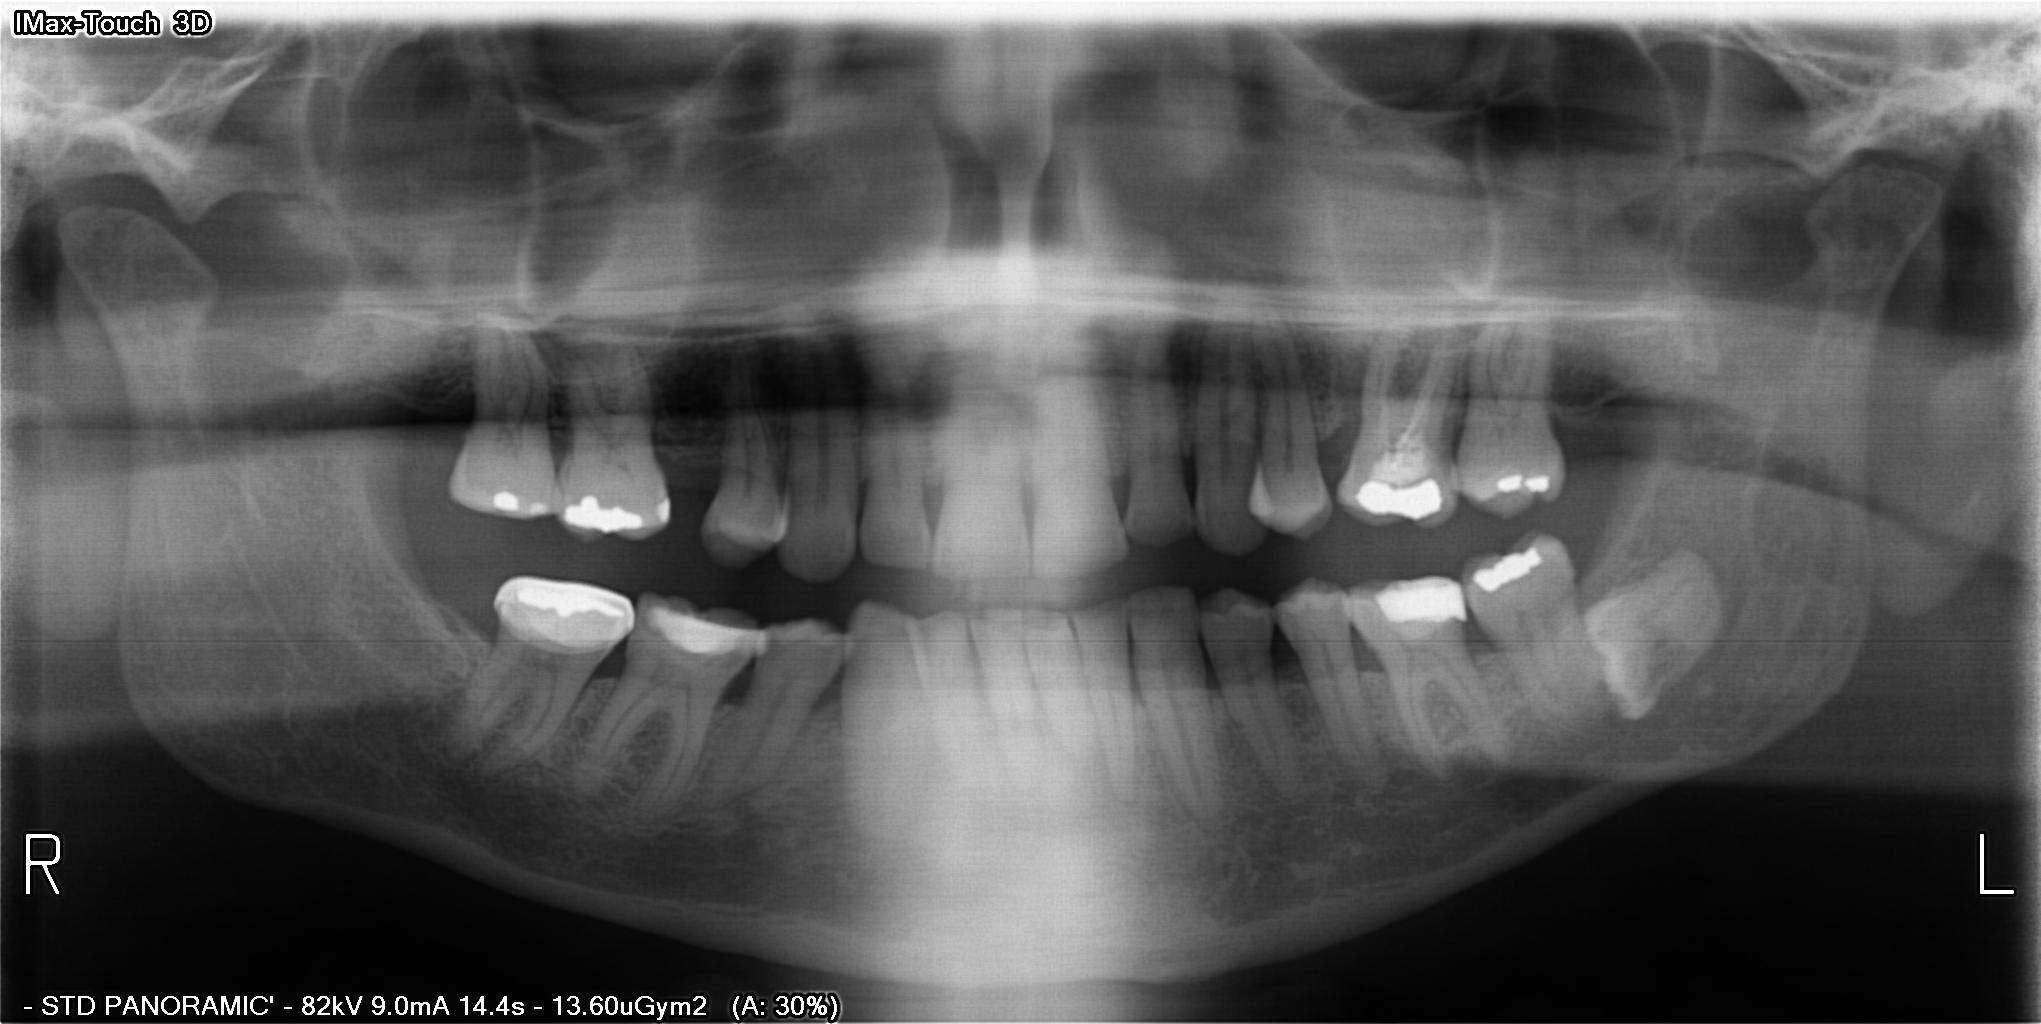Çürük: (487, 571, 629, 653), (1366, 571, 1477, 627), (652, 596, 767, 645), (1337, 469, 1444, 516), (1463, 546, 1549, 597), (562, 495, 644, 534), (486, 491, 531, 524), (518, 492, 546, 526), (1520, 468, 1545, 495), (1496, 466, 1520, 490), (656, 498, 675, 525)
Çürük Bölgesi: (696, 644, 756, 664)
